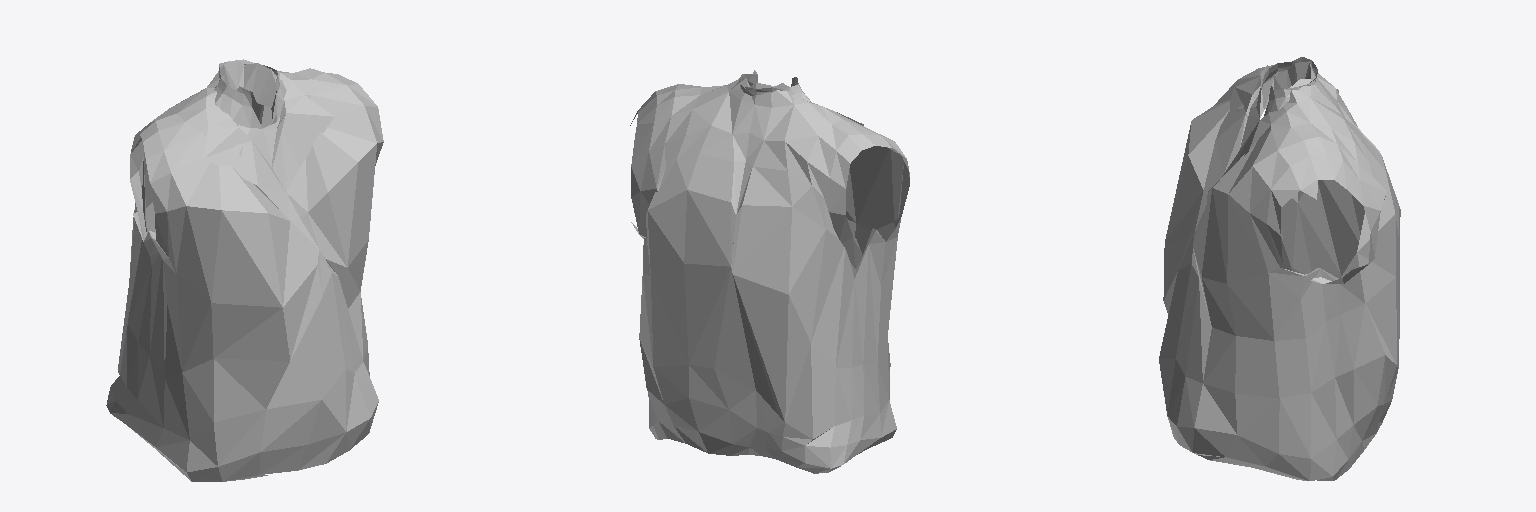
The model's file is shangyi.obj.
3 renders of one model, left to right at view 1: azimuth 30°, elevation 25°; view 2: azimuth 150°, elevation 25°; view 3: azimuth 270°, elevation 25°, orthographic.
Visible parts, largest first — view 1: file; view 2: file; view 3: file.
Boxes of the visible parts, <box> form: file: <box>106,59,383,481</box>; file: <box>630,70,909,473</box>; file: <box>1159,57,1400,480</box>.
Size of the model in its own units: 1.23 by 1.8 by 1.06.